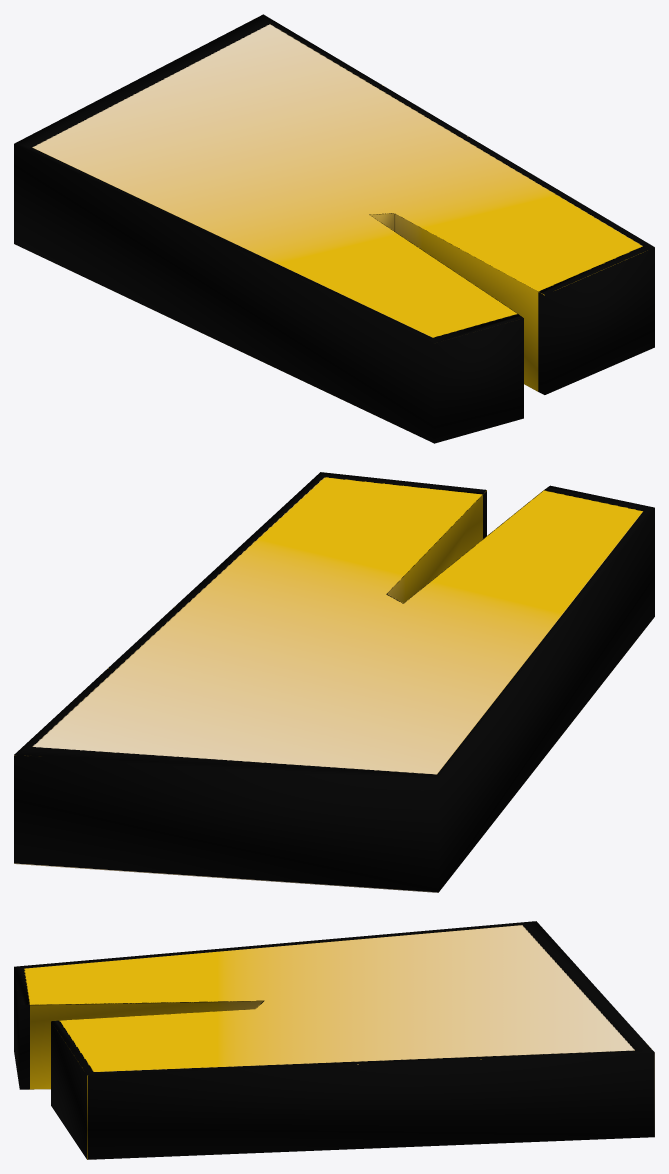
File: BAM_A.fbx
3 renders of one model, top to bottom at view 1: azimuth 30°, elevation 25°; view 2: azimuth 150°, elevation 25°; view 3: azimuth 270°, elevation 25°, orthographic. The views are drawn at different scales.
Visible parts, largest first — view 1: A; view 2: A; view 3: A.
Boxes of the visible parts, box(x1,y1,x2,y2) form: A: box(14, 14, 654, 443); A: box(14, 472, 654, 892); A: box(14, 921, 654, 1159).
Bounding box in the file's own units: 117 × 30 × 206.
Materials: 1 (1 with a texture image).
